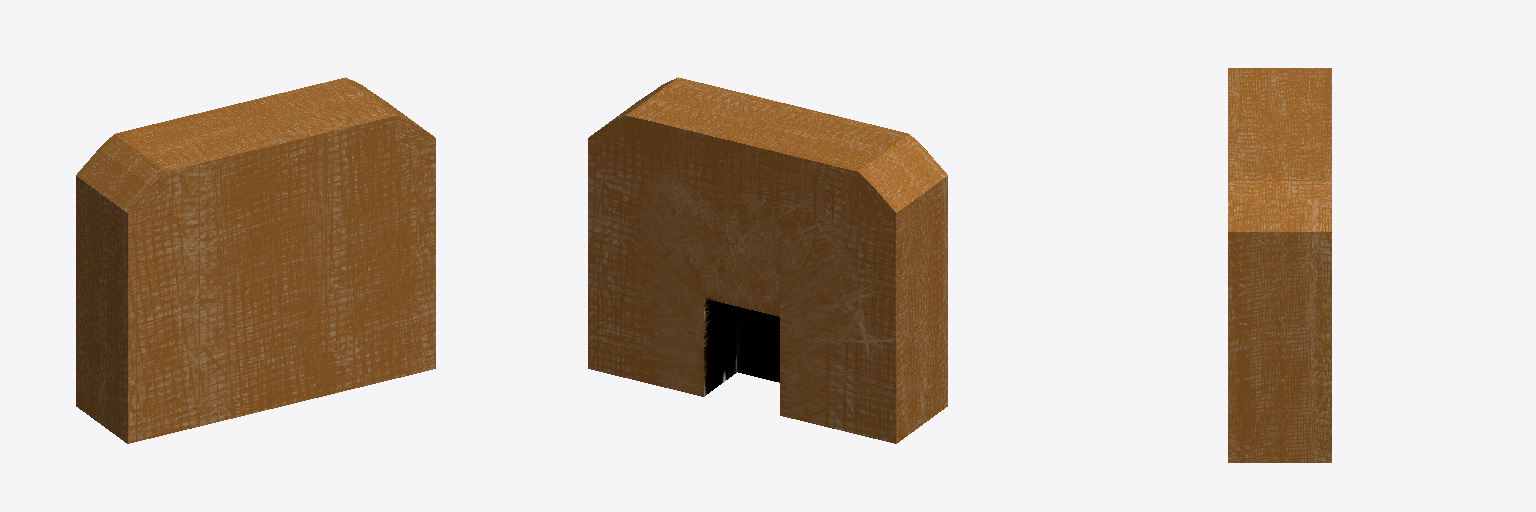
3 renders of one model, left to right at view 1: azimuth 30°, elevation 25°; view 2: azimuth 150°, elevation 25°; view 3: azimuth 270°, elevation 25°, orthographic.
Visible parts, largest first — view 1: 立方体; view 2: 立方体; view 3: 立方体.
Boxes of the visible parts, x1=… form: 立方体: x1=76, y1=77, x2=435, y2=443; 立方体: x1=588, y1=77, x2=947, y2=443; 立方体: x1=1228, y1=68, x2=1331, y2=462.
Bounding box in the file's own units: 18.72 × 15.23 × 5.45.
Materials: 1 (1 with a texture image).